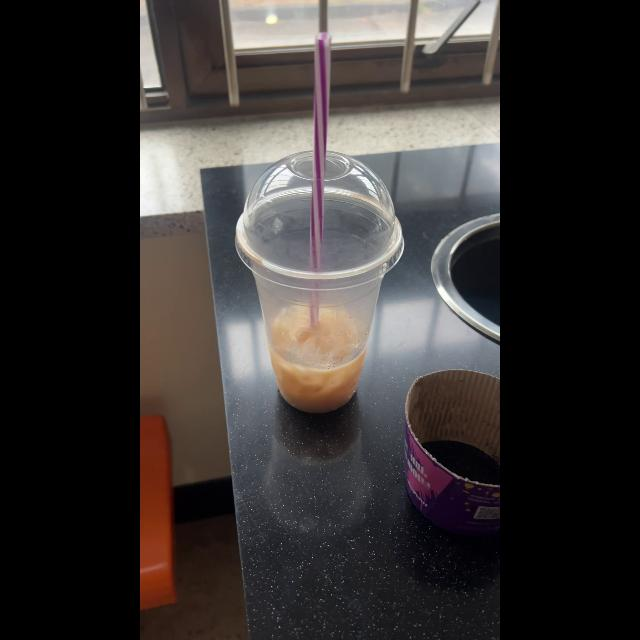dirty: (244, 175, 402, 418)
